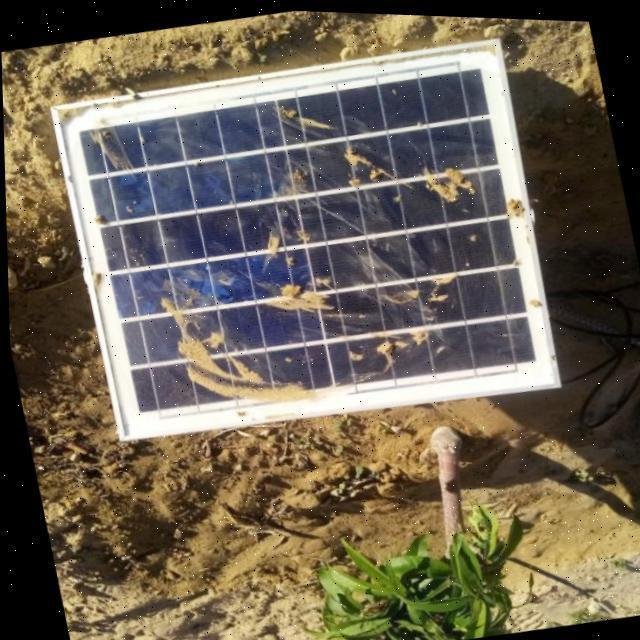Anomaly Solar Panel: (67, 55, 546, 426)
Surface Contaminant: (133, 96, 483, 403), (82, 127, 144, 184)
